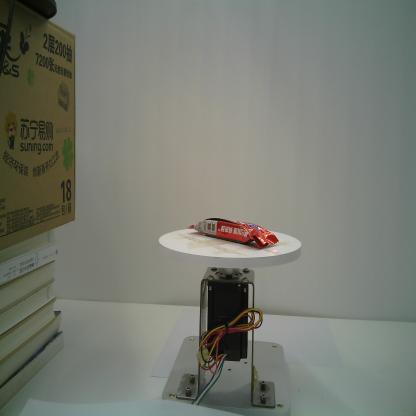Chocolate: (186, 215, 280, 249)
